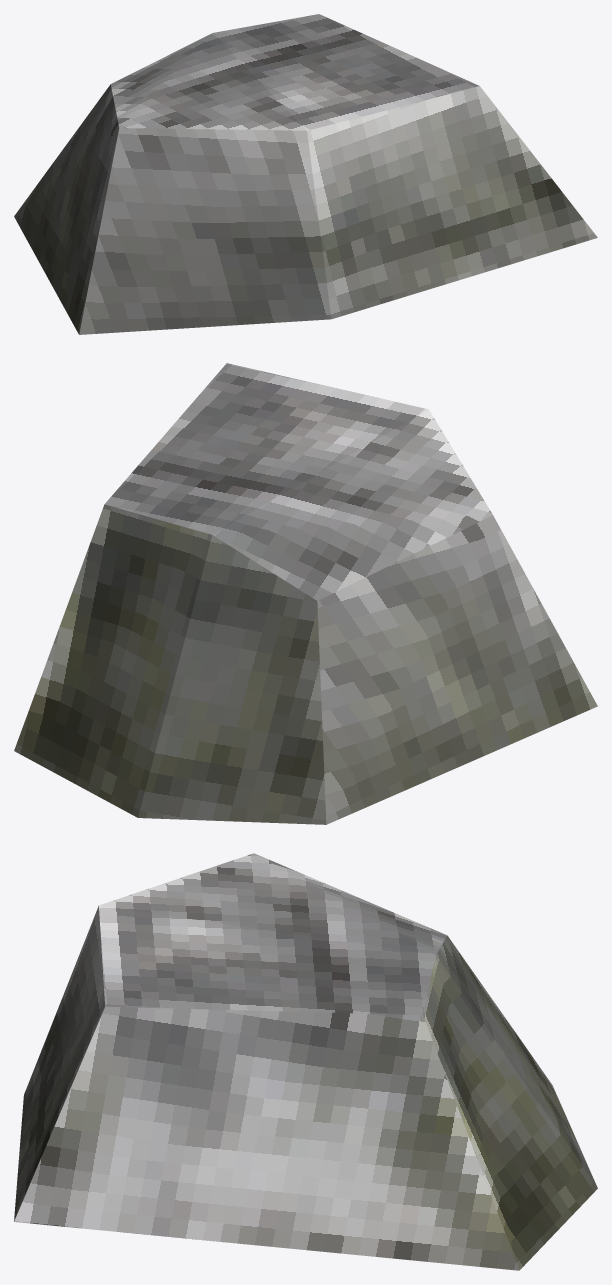
Rendered from Ground.FBX.
The picture shows the model from 3 angles, top to bottom: view 1: azimuth 30°, elevation 25°; view 2: azimuth 150°, elevation 25°; view 3: azimuth 270°, elevation 25°; orthographic projection. The views are drawn at different scales.
Visible parts, largest first — view 1: Box001; view 2: Box001; view 3: Box001.
Part boxes in pixels (x1,y1,x2,y2): Box001: (14, 14, 597, 334); Box001: (14, 363, 597, 824); Box001: (14, 853, 597, 1270).
Bounding box in the file's own units: 22.96 × 10.73 × 22.13.
1 material, 1 textured.
